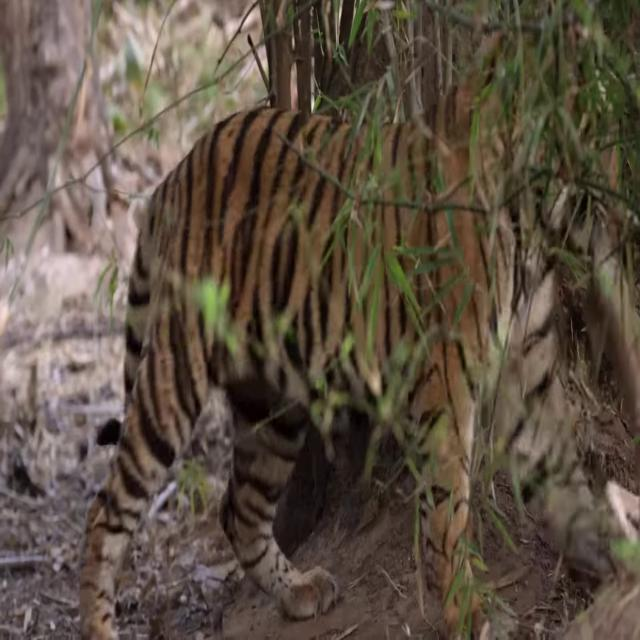tiger: (76, 102, 640, 640)
